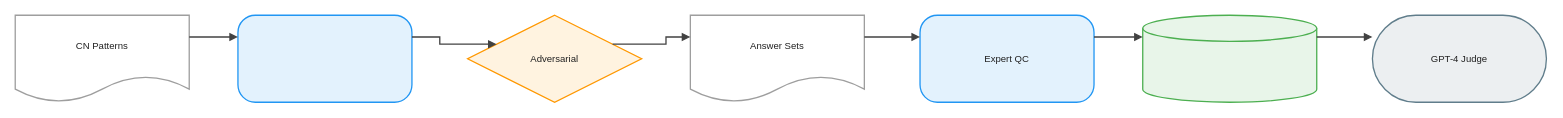
Image size: 1563x118. Some labels were removed from this diagram. The centre of each missing label's shape, as x and y in pixels:
"450 Qs" goes at point (1229, 58).
"Model Probes" goes at point (324, 58).
